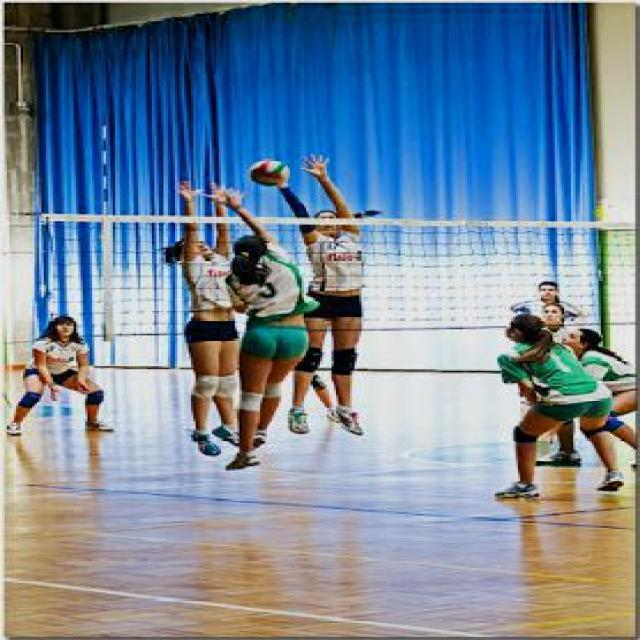volleyball: (250, 160, 290, 186)
